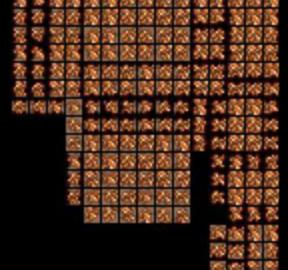copper: (10, 8, 28, 26), (10, 98, 28, 116), (10, 80, 28, 98), (10, 62, 28, 80), (28, 98, 46, 116), (28, 80, 46, 98), (28, 8, 46, 26), (28, 62, 46, 80), (46, 98, 64, 116), (46, 80, 64, 98), (46, 62, 64, 80), (46, 8, 64, 26), (64, 26, 82, 44), (64, 62, 82, 80), (64, 80, 82, 98), (64, 116, 82, 134), (64, 134, 82, 152), (64, 170, 82, 188), (64, 188, 82, 206), (82, 8, 100, 26), (100, 8, 118, 26), (118, 8, 136, 26), (118, 26, 136, 44), (100, 62, 118, 80), (118, 62, 136, 80), (82, 62, 100, 80), (82, 80, 100, 98), (100, 80, 118, 98), (118, 80, 136, 98), (82, 98, 100, 116), (100, 98, 118, 116), (118, 98, 136, 116), (118, 116, 136, 134), (82, 116, 100, 134), (82, 134, 100, 152), (100, 134, 118, 152), (118, 134, 136, 152), (118, 170, 136, 188), (82, 170, 100, 188), (82, 188, 100, 206), (100, 170, 118, 188), (100, 188, 118, 206), (118, 188, 136, 206), (154, 116, 172, 134), (190, 134, 208, 152), (208, 80, 226, 98), (208, 170, 226, 188), (208, 188, 226, 206), (244, 188, 262, 206), (244, 170, 262, 188), (244, 134, 262, 152), (244, 116, 262, 134), (244, 98, 262, 116), (244, 80, 262, 98), (244, 8, 262, 26), (10, 27, 28, 44), (10, 45, 28, 62), (28, 26, 46, 43), (28, 45, 46, 62), (46, 45, 64, 62), (46, 26, 64, 43), (65, 8, 82, 26), (64, 45, 82, 62), (64, 99, 82, 116), (64, 153, 82, 170), (100, 26, 118, 43), (82, 26, 100, 43), (82, 45, 100, 62), (100, 45, 118, 62), (118, 45, 136, 62), (101, 116, 118, 134), (82, 153, 100, 170), (100, 153, 118, 170), (118, 153, 136, 170), (82, 206, 100, 223), (100, 206, 118, 223), (118, 206, 136, 223), (154, 188, 171, 206), (136, 188, 153, 206), (136, 170, 153, 188), (154, 170, 171, 188), (172, 134, 189, 152), (155, 134, 172, 152), (136, 134, 153, 152), (172, 116, 189, 134), (136, 116, 153, 134), (136, 98, 153, 116), (136, 80, 153, 98), (136, 62, 153, 80), (136, 8, 153, 26), (154, 8, 171, 26), (154, 26, 172, 43), (154, 45, 172, 62), (155, 62, 172, 80), (155, 80, 172, 98), (154, 98, 171, 116), (172, 98, 189, 116), (172, 80, 189, 98), (173, 62, 190, 80), (172, 8, 189, 26), (191, 8, 208, 26), (190, 62, 207, 80), (190, 80, 207, 98), (190, 98, 207, 116), (190, 116, 207, 134), (208, 8, 225, 26), (208, 62, 225, 80), (208, 98, 225, 116), (208, 116, 225, 134), (208, 134, 225, 152), (226, 8, 243, 26), (226, 26, 243, 44), (227, 62, 244, 80), (226, 134, 243, 152), (208, 224, 226, 241), (208, 242, 225, 260), (226, 242, 243, 260), (244, 224, 262, 241), (244, 207, 262, 224), (245, 152, 262, 170), (262, 242, 279, 260), (262, 116, 279, 134), (262, 98, 279, 116), (244, 44, 261, 62), (136, 206, 153, 223), (154, 206, 171, 223), (172, 206, 189, 223), (172, 188, 189, 205), (172, 153, 189, 170), (154, 153, 171, 170), (137, 152, 154, 169), (136, 45, 153, 62), (136, 26, 153, 43), (172, 45, 189, 62), (172, 26, 189, 43), (190, 27, 207, 44), (190, 45, 207, 62), (208, 45, 225, 62), (208, 153, 225, 170), (226, 45, 243, 62), (226, 81, 243, 98), (226, 117, 243, 134), (226, 153, 243, 170), (226, 171, 243, 188), (227, 189, 244, 206), (226, 225, 243, 242), (227, 206, 244, 223), (244, 243, 261, 260), (262, 224, 279, 241), (245, 62, 262, 79), (262, 45, 279, 62), (245, 26, 262, 43), (227, 98, 243, 116), (263, 134, 279, 152), (263, 62, 279, 80), (172, 171, 189, 187), (208, 27, 225, 43), (263, 206, 279, 223), (263, 189, 279, 206), (263, 170, 279, 187), (263, 153, 279, 170), (263, 26, 279, 43), (263, 9, 279, 26), (263, 81, 279, 97), (208, 260, 225, 270), (263, 260, 279, 270), (262, 0, 279, 9), (226, 261, 243, 270), (244, 261, 261, 270), (10, 0, 28, 8), (118, 0, 136, 8), (208, 0, 226, 8), (64, 0, 81, 8), (137, 0, 154, 8), (190, 0, 207, 8), (244, 0, 261, 8), (28, 0, 45, 7), (46, 0, 63, 7), (83, 0, 100, 7), (101, 0, 118, 7), (155, 0, 172, 7), (173, 0, 190, 7), (227, 0, 244, 7)
